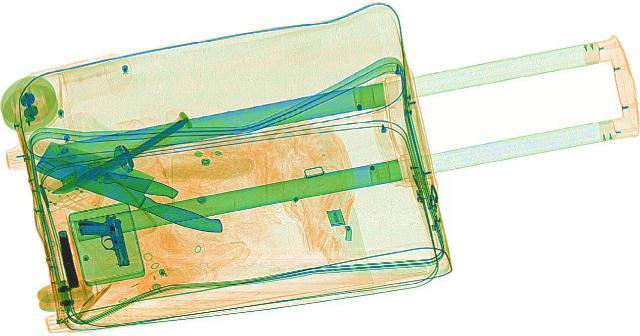Gun: (74, 213, 130, 264), (52, 229, 82, 286)
Knife: (8, 139, 260, 235), (48, 114, 200, 196), (19, 145, 183, 199)
